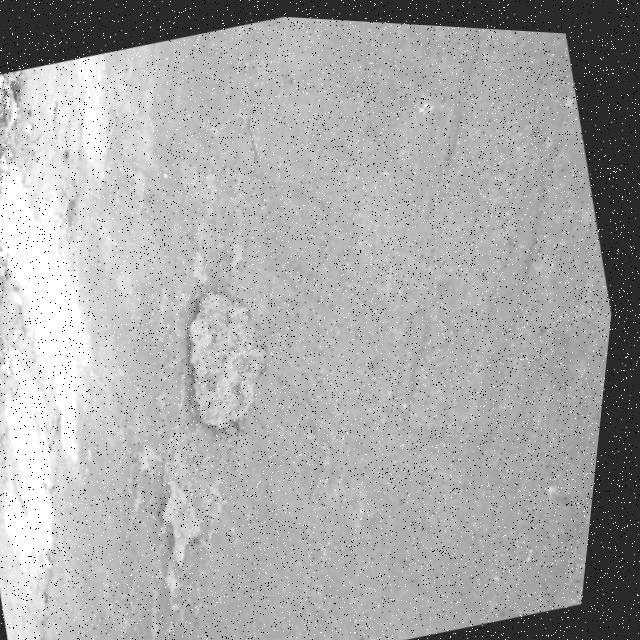pothole: (156, 264, 306, 445), (143, 462, 250, 611)
